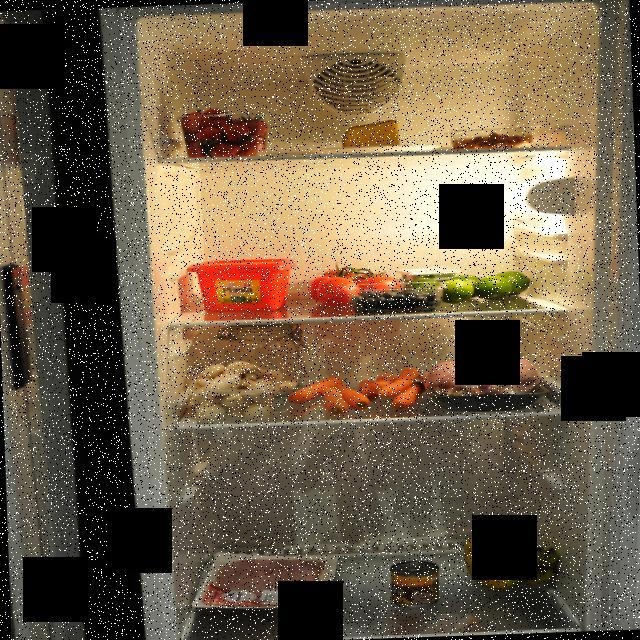Carne cerdo: (217, 550, 338, 614)
Carne pollo: (418, 349, 550, 412)
Champiñones: (188, 359, 279, 427)
Gambas/Langostinos: (456, 128, 532, 150)
Mantequilla: (194, 256, 294, 318)
Plátano: (456, 513, 566, 595)
Queso: (338, 118, 403, 152)
Tomate: (306, 256, 408, 308)
Zanahoria: (286, 365, 430, 418)
